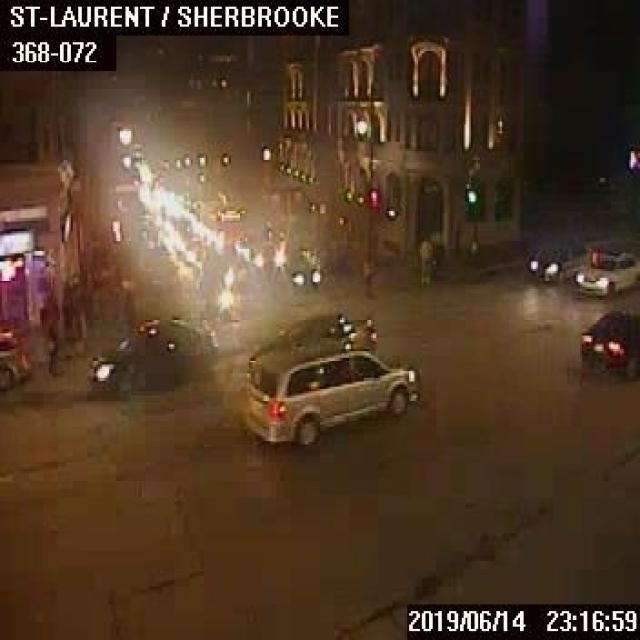pedestrian: (37, 296, 62, 376), (418, 233, 432, 283)
vehicle: (240, 348, 417, 444), (86, 316, 218, 391), (250, 311, 374, 351), (576, 309, 638, 375), (573, 245, 638, 295), (524, 243, 590, 280), (0, 315, 29, 389), (276, 258, 319, 290)
